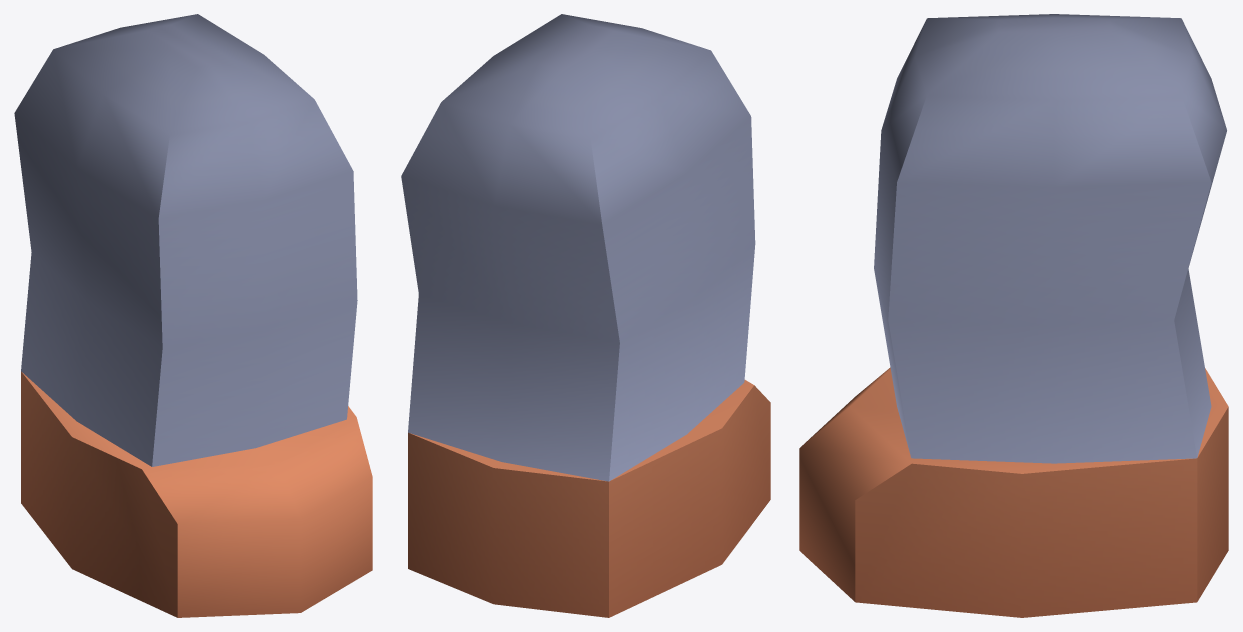
File: leg-right.001_lev2.glb
3 views of the same model, side by side, from view 1: azimuth 30°, elevation 25°; view 2: azimuth 150°, elevation 25°; view 3: azimuth 270°, elevation 25° (orthographic). The views are drawn at different scales.
Visible parts, largest first — view 1: leg-right.001_lev2; view 2: leg-right.001_lev2; view 3: leg-right.001_lev2.
Boxes of the visible parts, bbox=[...] form: leg-right.001_lev2: bbox=[14, 14, 372, 617]; leg-right.001_lev2: bbox=[401, 14, 770, 617]; leg-right.001_lev2: bbox=[799, 14, 1228, 617].
Bounding box in the file's own units: 0.1384 × 0.2512 × 0.1863.
1 material, 1 textured.
